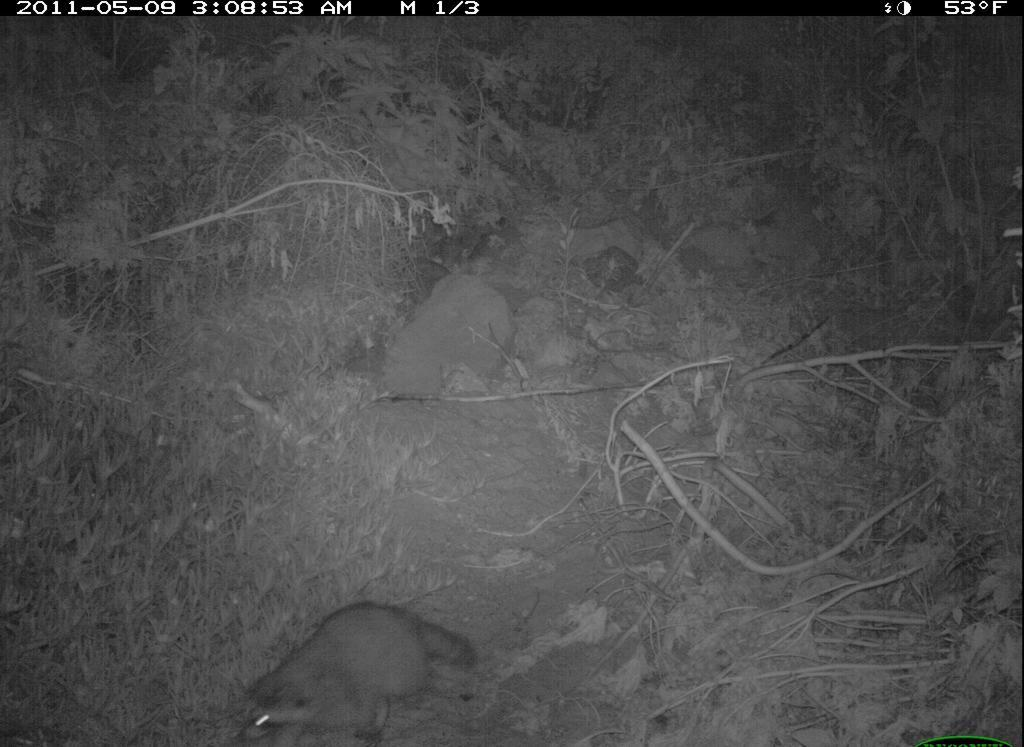raccoon: (229, 595, 486, 747)
